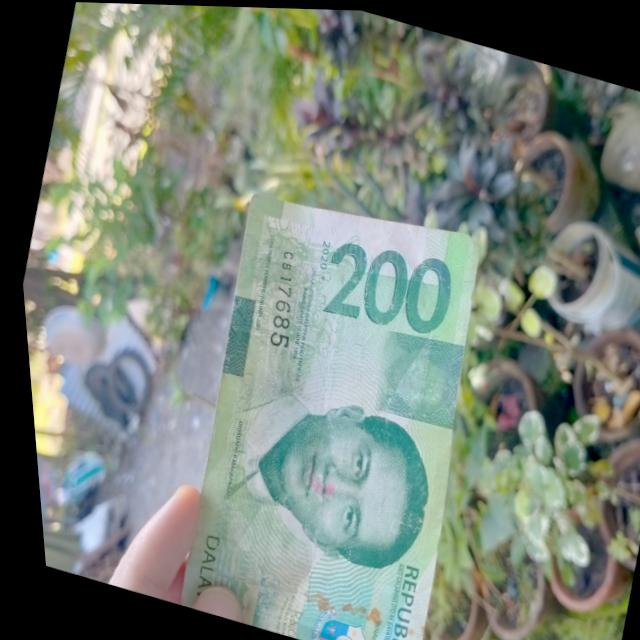concealed_value: (363, 319, 469, 432)
serial_number: (248, 245, 311, 350)
value: (300, 214, 468, 351)
